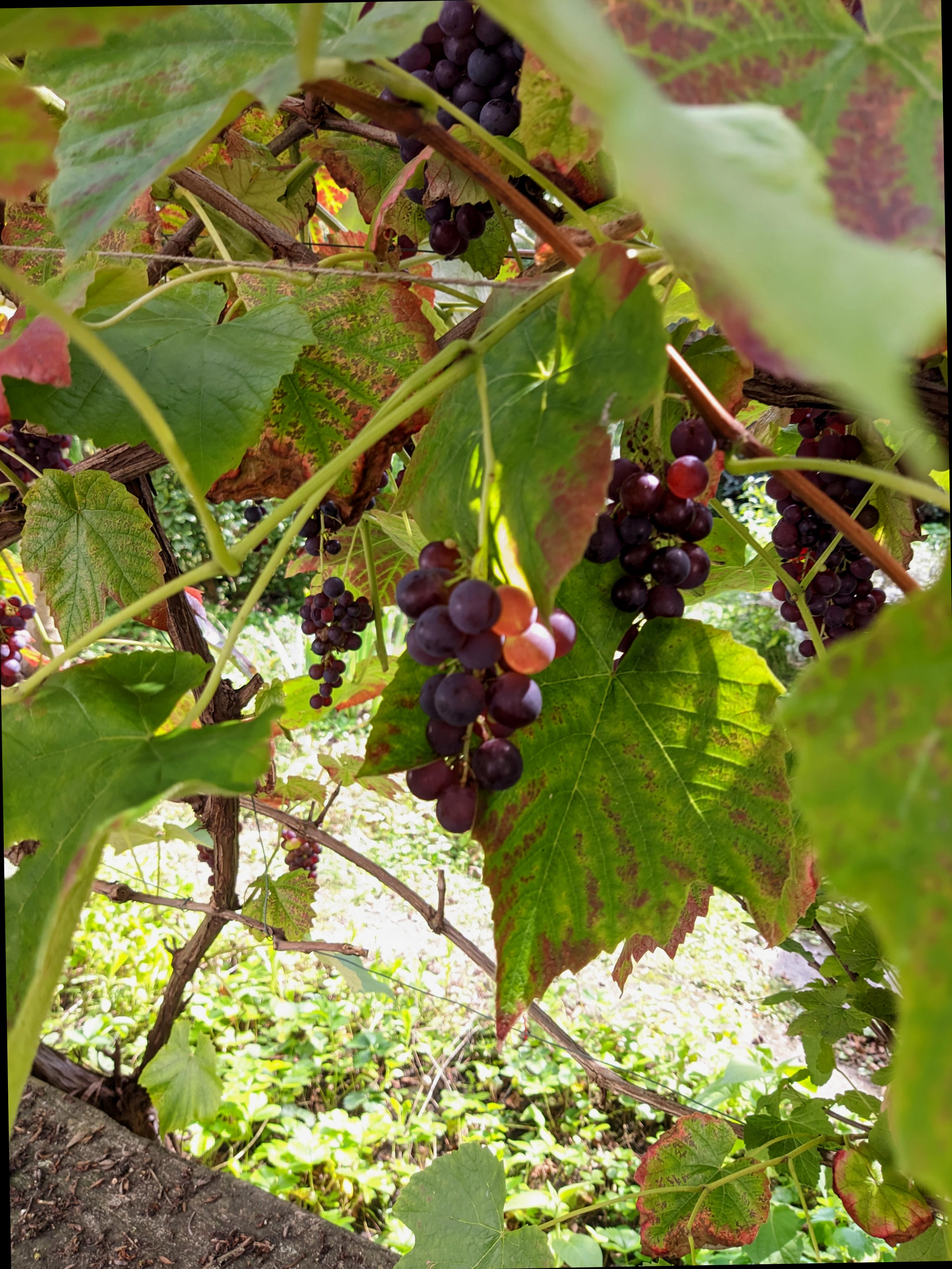Grape Ripe: (388, 549, 567, 843), (394, 7, 513, 263), (757, 409, 877, 660), (571, 422, 709, 627), (285, 587, 364, 718), (0, 428, 61, 490), (288, 507, 342, 563), (0, 600, 26, 692), (270, 832, 309, 890), (233, 500, 262, 561)
